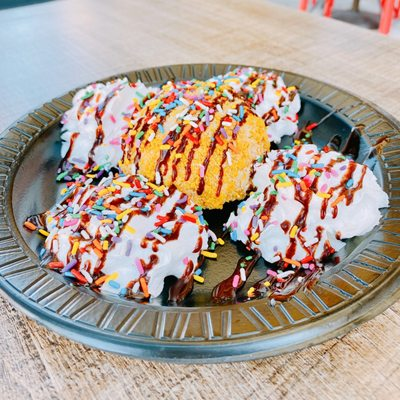curry: (2, 0, 399, 353)
sushi: (0, 58, 394, 314), (60, 67, 302, 215)
